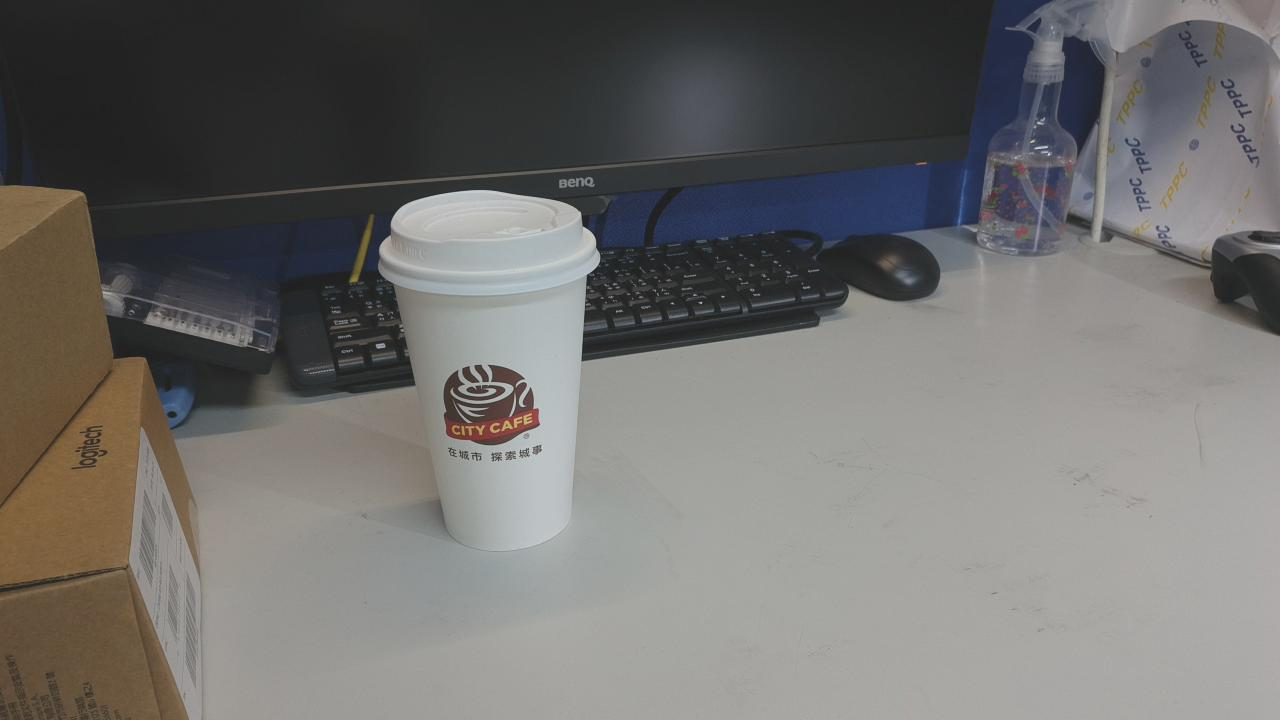long: (629, 529, 926, 596)
